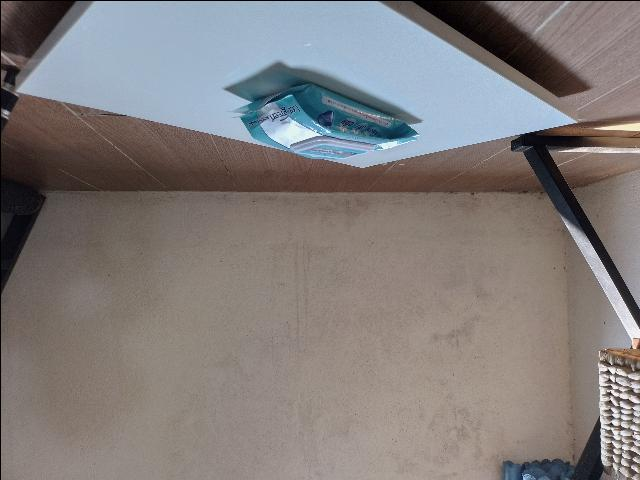Let-green_alcohol_wipes: (226, 82, 419, 159)
